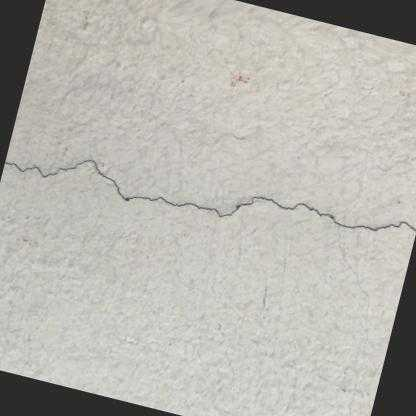crack: (5, 159, 416, 234)
